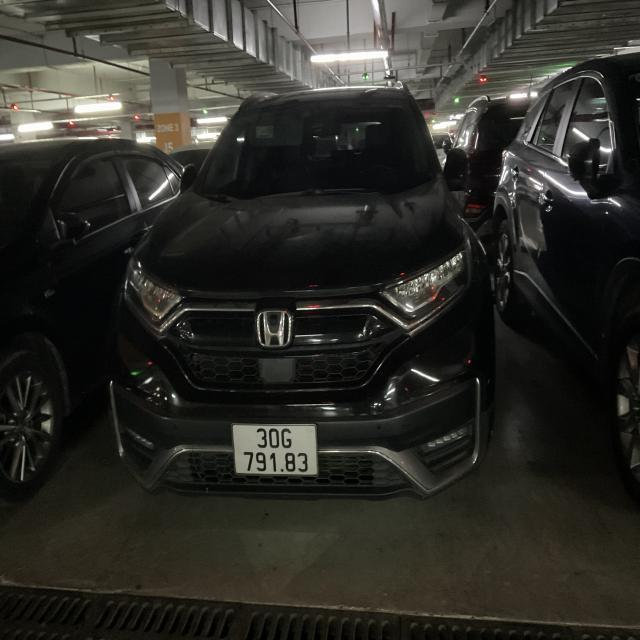license: (231, 422, 318, 477)
